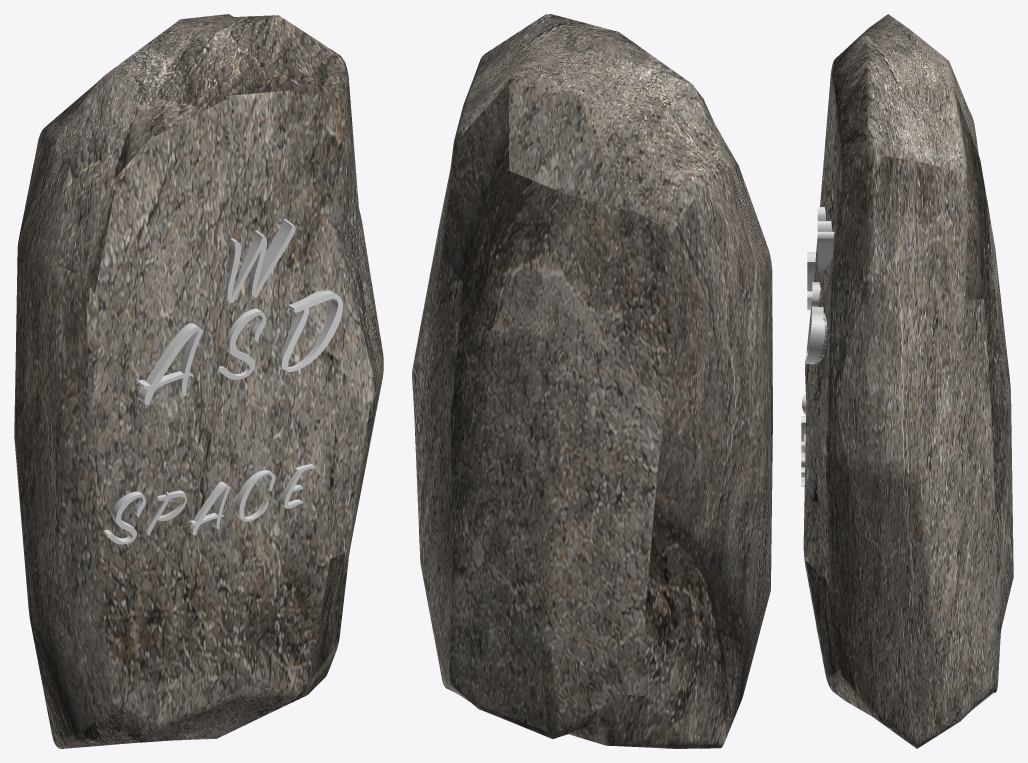
File: tuto.fbx
The picture shows the model from 3 angles, left to right: view 1: azimuth 30°, elevation 25°; view 2: azimuth 150°, elevation 25°; view 3: azimuth 270°, elevation 25°; orthographic projection. The views are drawn at different scales.
Visible parts, largest first — view 1: bisuck, W, D, A, S, A.001, S.001, c, P; view 2: bisuck; view 3: bisuck, D, W, A.
Boxes of the visible parts, x1=… form: bisuck: x1=14, y1=14, x2=383, y2=748; W: x1=226, y1=219, x2=295, y2=302; D: x1=278, y1=289, x2=342, y2=371; A: x1=136, y1=323, x2=203, y2=405; S: x1=217, y1=308, x2=266, y2=379; A.001: x1=189, y1=481, x2=230, y2=535; S.001: x1=103, y1=491, x2=145, y2=544; c: x1=235, y1=470, x2=275, y2=521; P: x1=146, y1=490, x2=186, y2=535; bisuck: x1=412, y1=14, x2=772, y2=748; bisuck: x1=803, y1=14, x2=1013, y2=748; D: x1=806, y1=306, x2=826, y2=364; W: x1=817, y1=207, x2=834, y2=273; A: x1=807, y1=252, x2=816, y2=310.
Bounding box in the file's own units: 118 × 224 × 64.91.
Materials: 1 (1 with a texture image).
